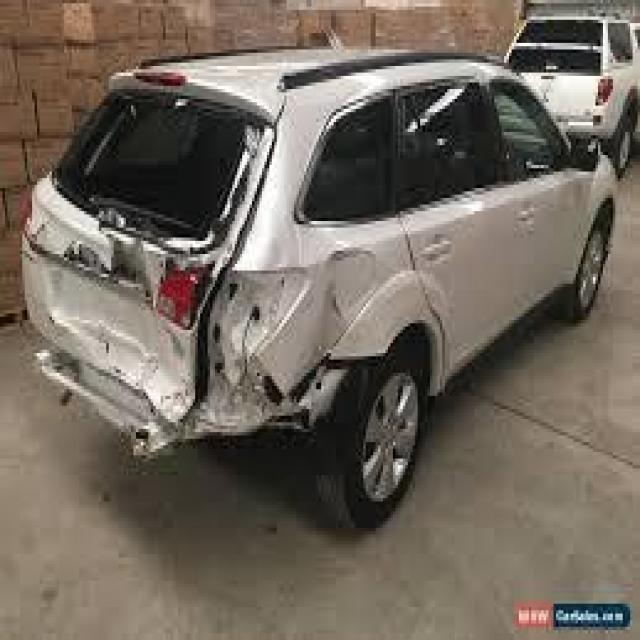damaged: (46, 224, 364, 478)
